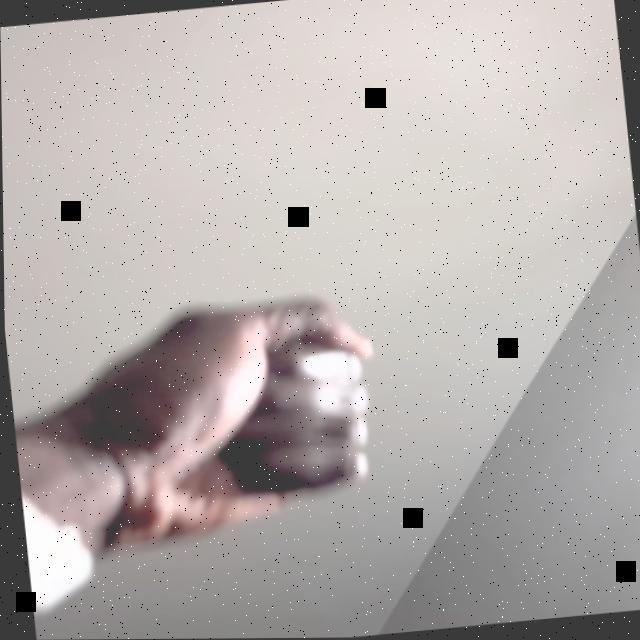Rock: (3, 281, 391, 563)
